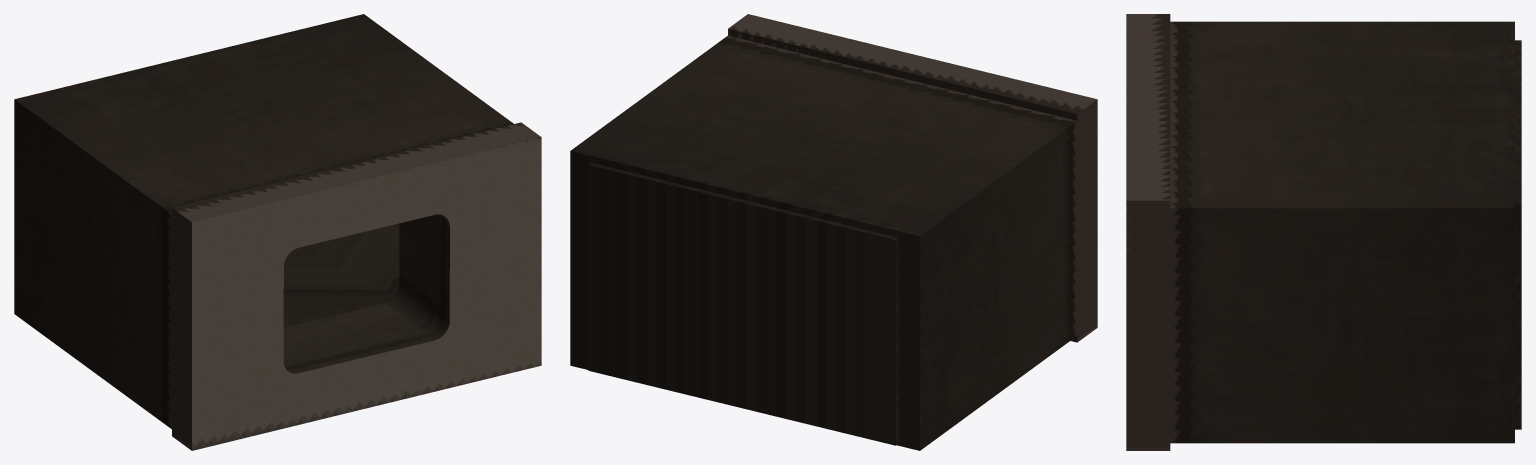
The model's file is pz_counter_dark_floor__sink_inset_rect.obj.
3 renders of one model, left to right at view 1: azimuth 30°, elevation 25°; view 2: azimuth 150°, elevation 25°; view 3: azimuth 270°, elevation 25°, orthographic. The views are drawn at different scales.
Bounding box in the file's own units: 1 × 0.6266 × 0.895.
1 material, 1 textured.
